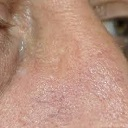Carcinoma: (36, 77, 68, 128)
